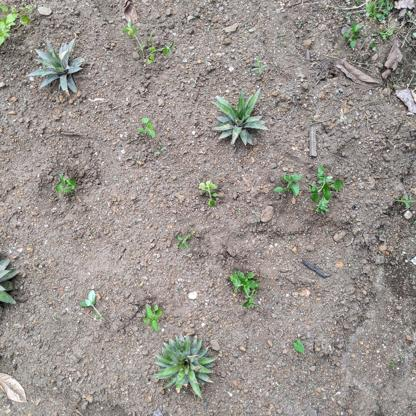pineapple: (151, 333, 219, 395), (211, 89, 271, 152), (29, 39, 89, 98), (1, 250, 28, 315)
weed: (272, 167, 348, 218), (335, 2, 400, 57), (121, 18, 175, 69), (224, 267, 265, 307), (1, 1, 36, 47), (78, 284, 108, 325), (134, 301, 174, 331), (48, 167, 83, 200), (196, 177, 228, 210), (171, 227, 204, 253), (133, 116, 160, 142)
